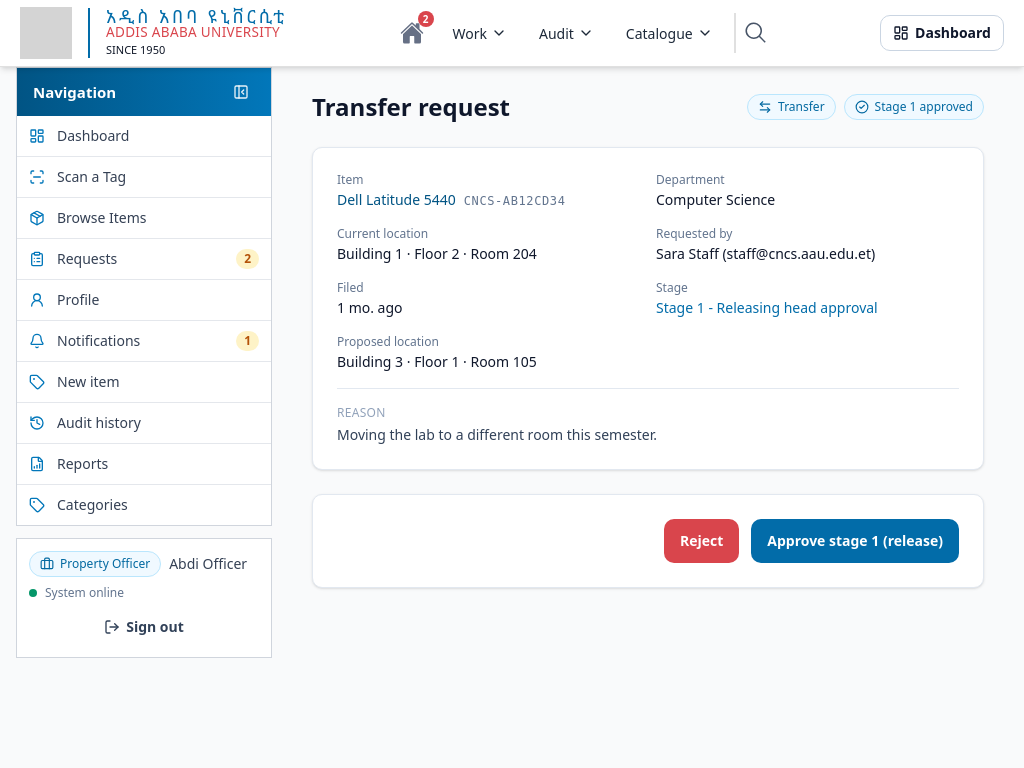
/requests/:id — the decision surface › says stage 1 is a release, and does not move the item
Click the button "Approve stage 1 (release)" at x=855, y=541, box [751,519,959,563]
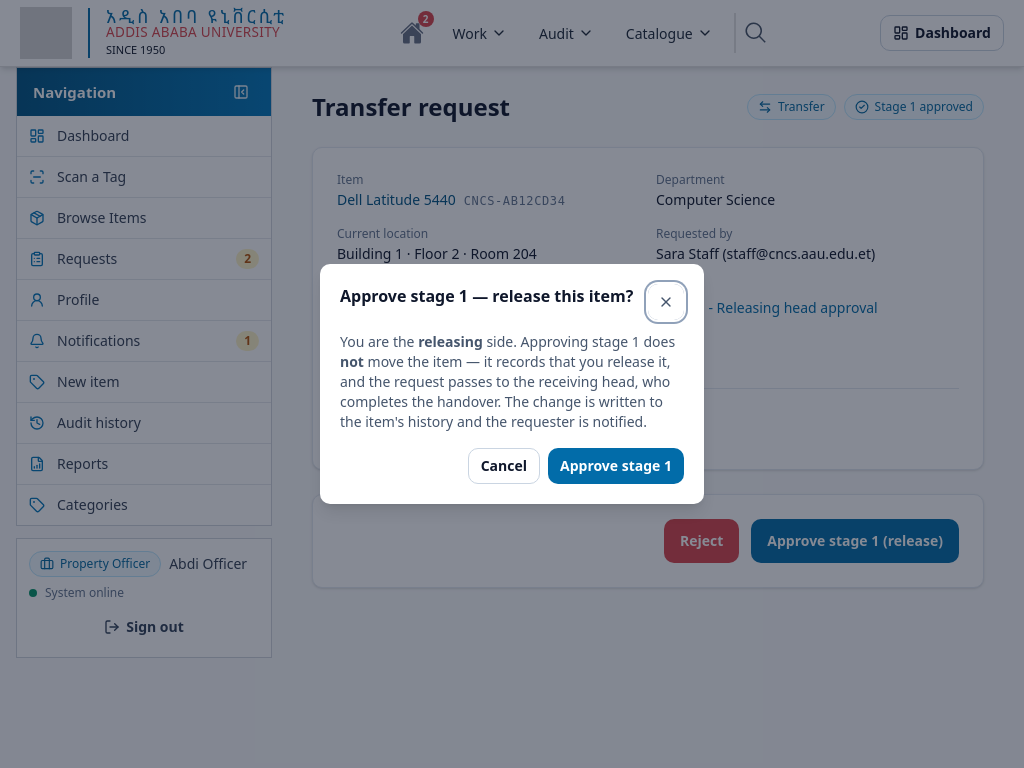
Check: the text "releasing" is shown, box [418,332,483,351]
Check: the button "Approve stage 1" is shown, box [548,448,684,484]
